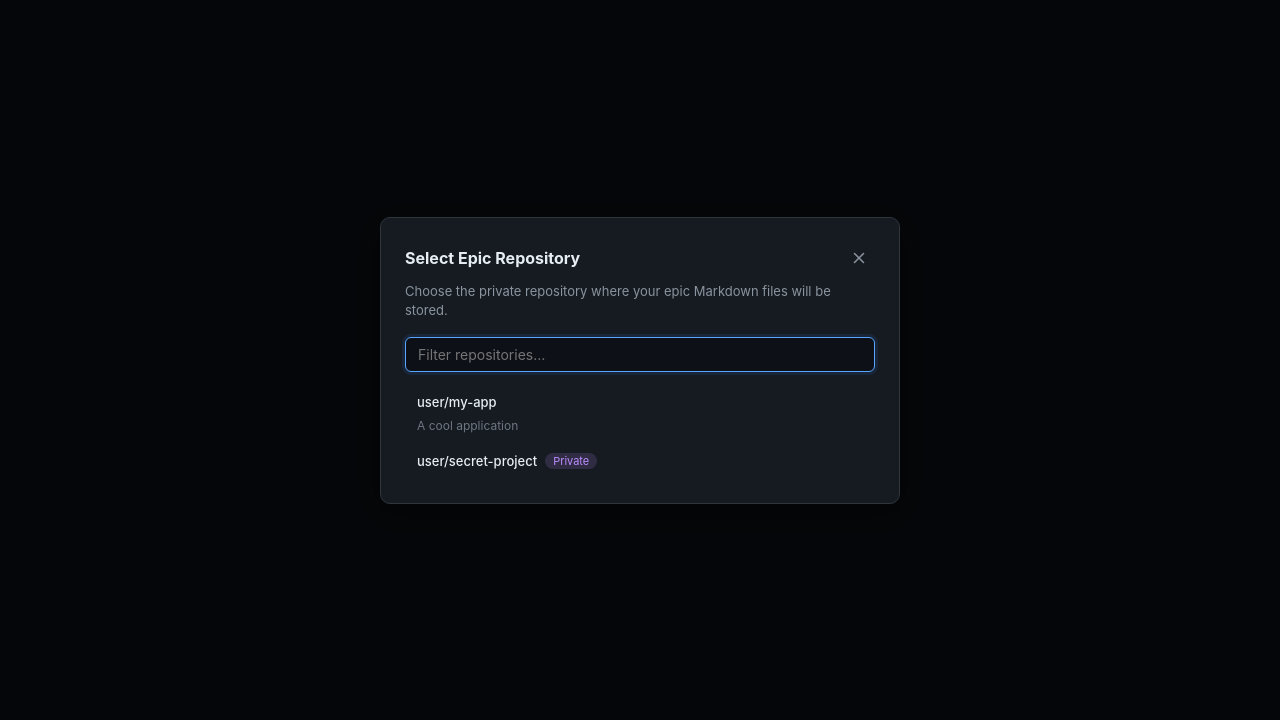
Test: RepoSelector › filters repos by name
In the field with test id "repo-filter": (640, 354) [405,336,875,372], type "secret"
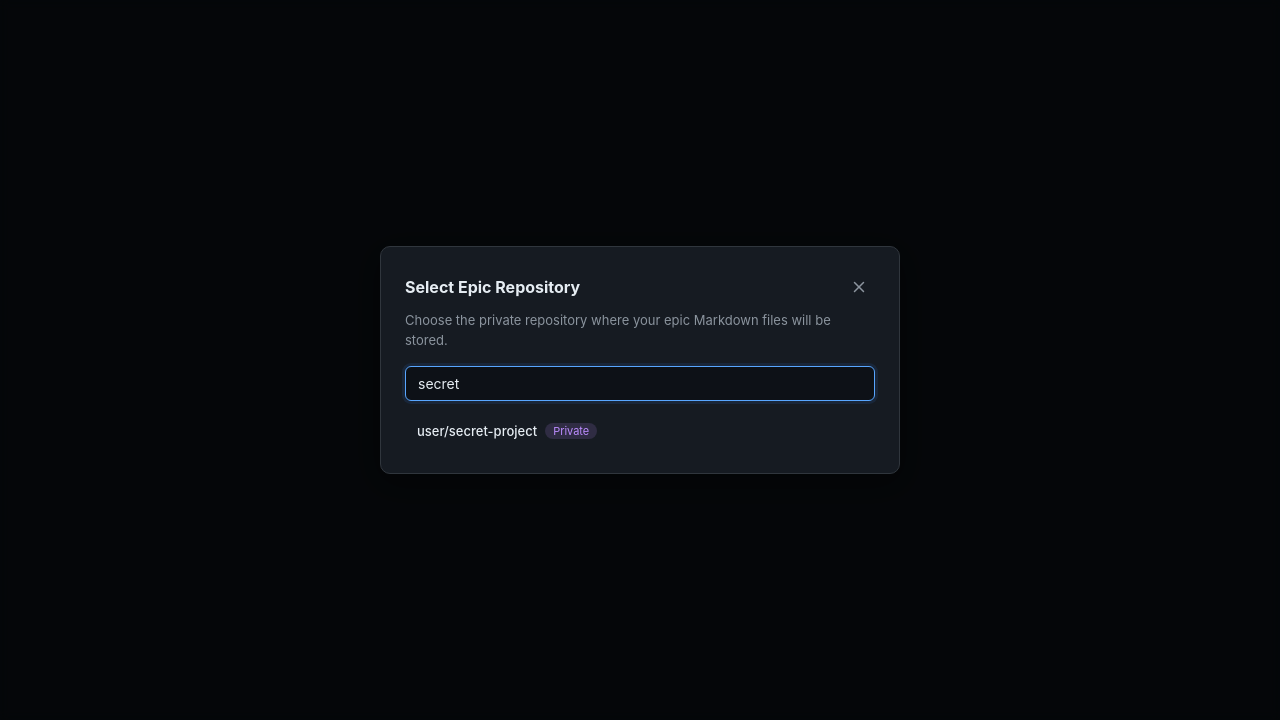
Expected: the text "user/secret-project" is shown, [417,423,537,439]
Expected: the button "user/my-app" is gone
